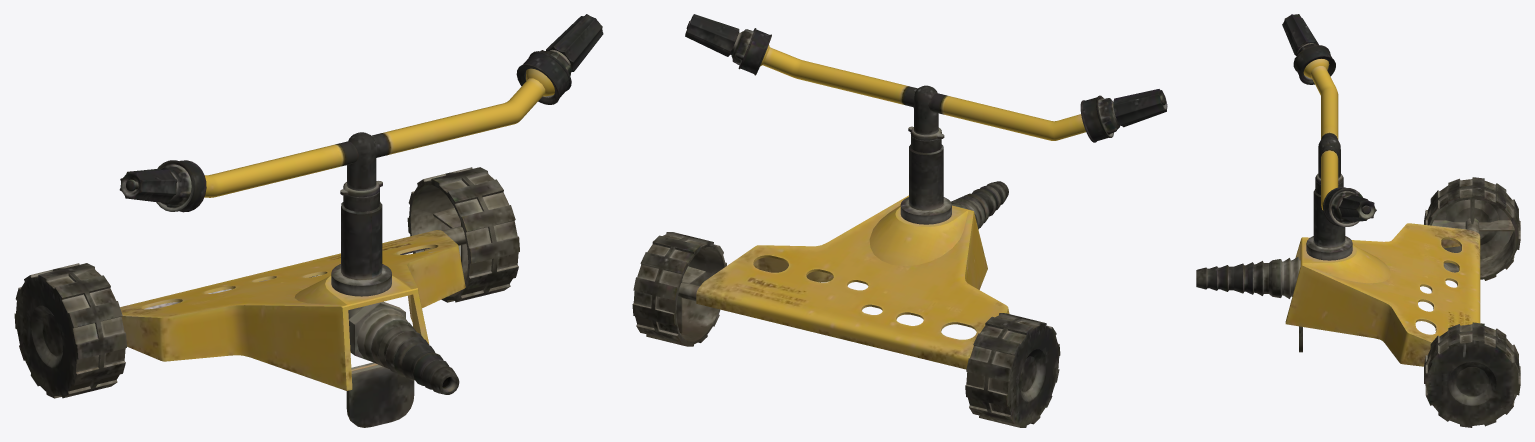
The model's file is garden_sprinkler_01.glb.
3 views of the same model, side by side, from view 1: azimuth 30°, elevation 25°; view 2: azimuth 150°, elevation 25°; view 3: azimuth 270°, elevation 25° (orthographic). The views are drawn at different scales.
Visible parts, largest first — view 1: garden_sprinkler_01_body_main; view 2: garden_sprinkler_01_body_main; view 3: garden_sprinkler_01_body_main.
Part boxes in pixels (x1=…): garden_sprinkler_01_body_main: x1=14, y1=14, x2=603, y2=427; garden_sprinkler_01_body_main: x1=632, y1=14, x2=1167, y2=427; garden_sprinkler_01_body_main: x1=1196, y1=14, x2=1520, y2=427.
Size of the model in its own units: 0.3508 by 0.203 by 0.2491.
Materials: 1 (1 with a texture image).
